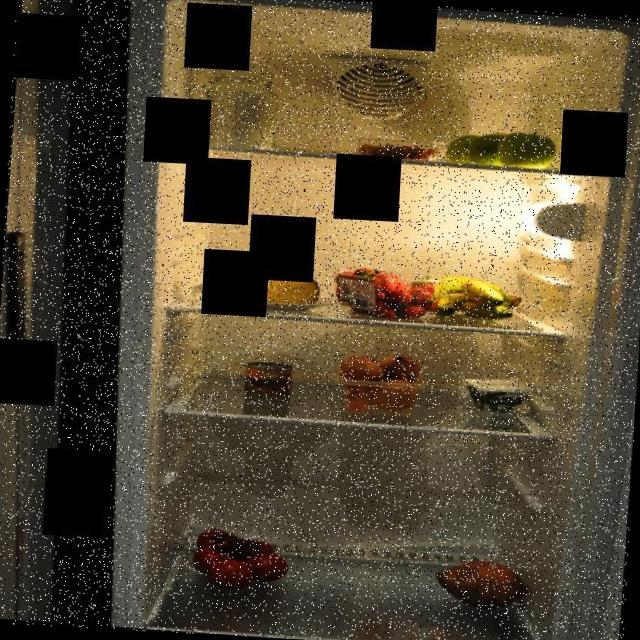Cebolla: (334, 348, 424, 412)
Gambas/Langostinos: (356, 134, 444, 164)
Manzana: (439, 121, 564, 171)
Plátano: (428, 274, 528, 323)
Queso: (232, 266, 324, 312), (458, 374, 536, 418)
Tomate: (187, 523, 296, 595)
corn: (240, 358, 300, 404)
strawberries: (332, 266, 443, 322)
sugar: (202, 58, 284, 155)
sweet_potato: (431, 554, 536, 616)
